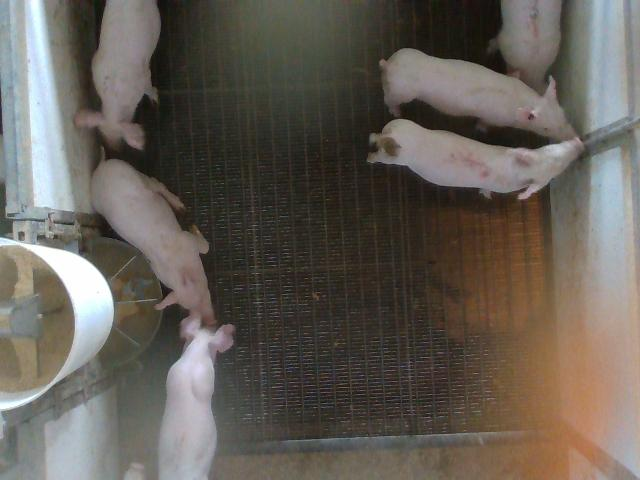pig-3: (495, 0, 561, 92)
pig-5: (368, 119, 584, 199)
